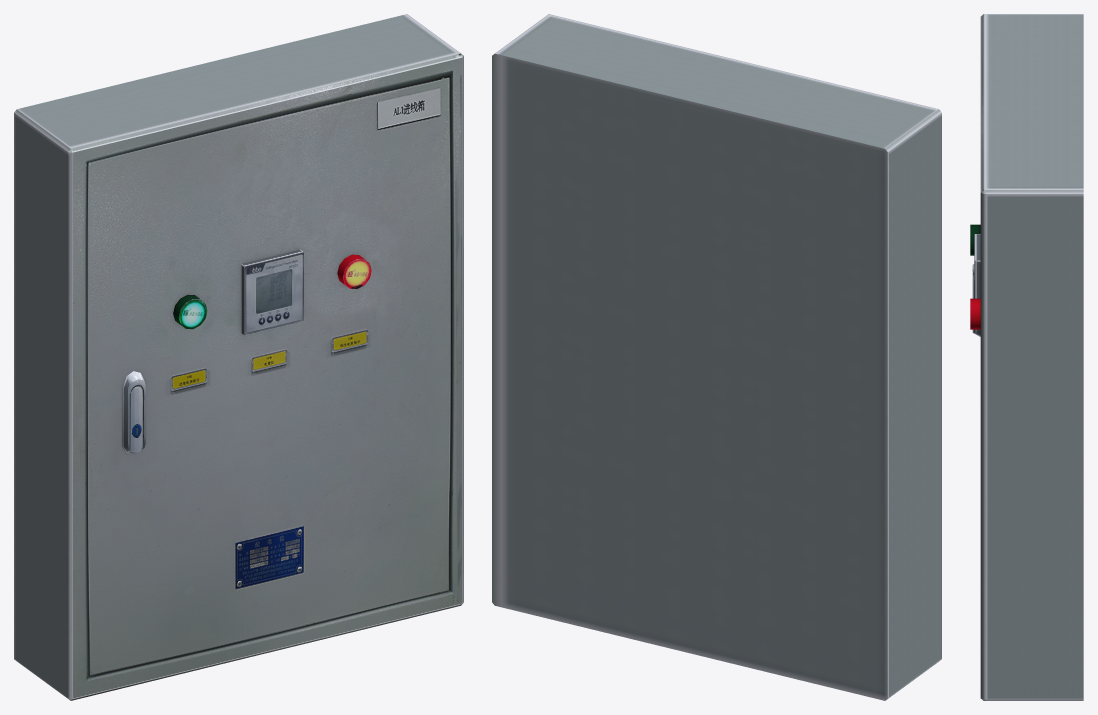
Rendered from PeiDianXiang_Small2.fbx.
3 views of the same model, side by side, from view 1: azimuth 30°, elevation 25°; view 2: azimuth 150°, elevation 25°; view 3: azimuth 270°, elevation 25° (orthographic). The views are drawn at different scales.
Visible parts, largest first — view 1: PeiDianXiang_Small2; view 2: PeiDianXiang_Small2; view 3: PeiDianXiang_Small2.
Part boxes in pixels (box(x1,y1,x2,y2)): PeiDianXiang_Small2: box(14, 14, 463, 700); PeiDianXiang_Small2: box(492, 14, 941, 700); PeiDianXiang_Small2: box(970, 14, 1083, 700).
Size of the model in its own units: 60 by 80 by 16.07.
1 material, 1 textured.
